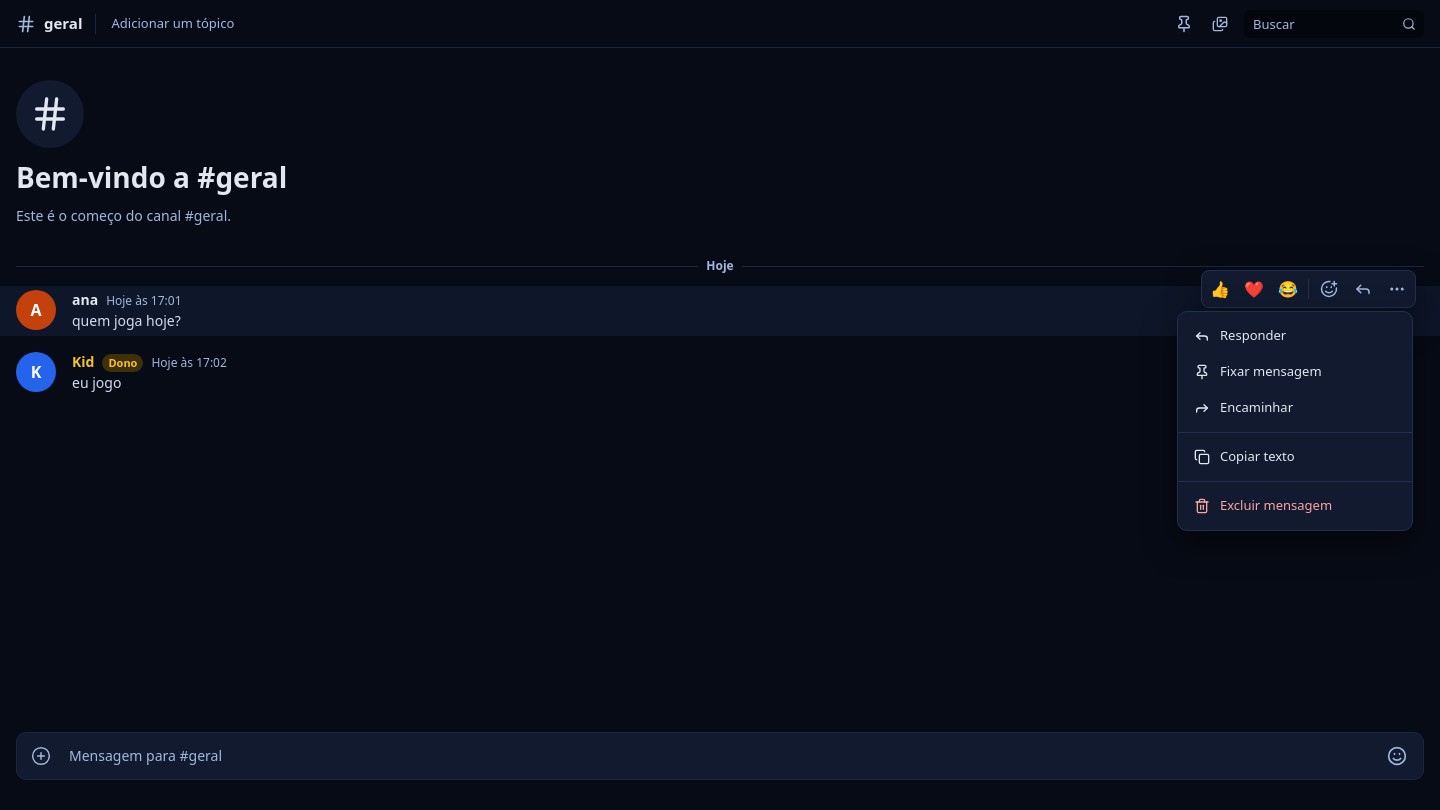
it: as ações da mensagem › excluir pede confirmação, e o dono exclui a dos outros num canal
Earlier steps of the test are not shown.
Click the menu item "Excluir mensagem": [1263, 505] box [1194,496,1332,514]
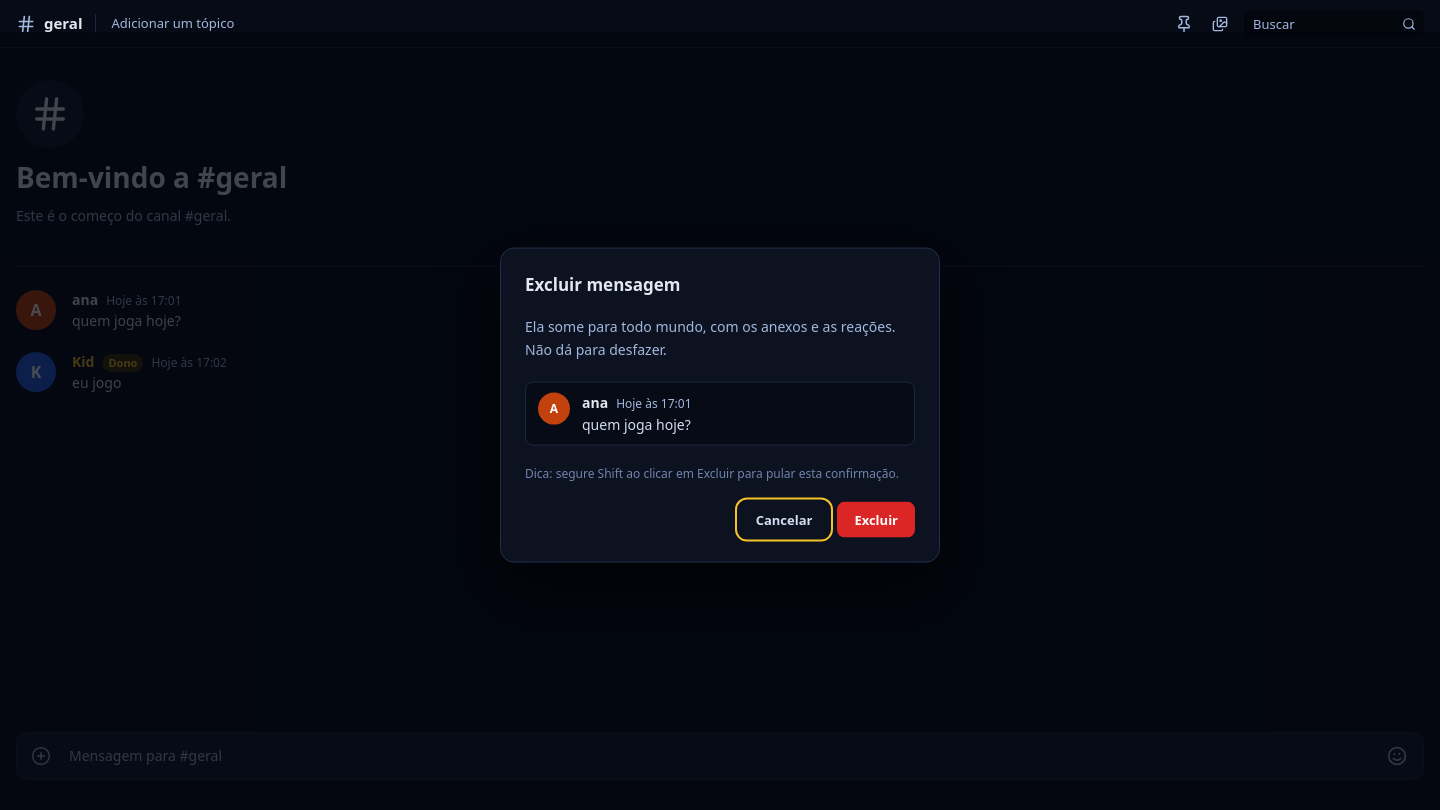
Expected: the heading "Excluir mensagem" is shown, [525,273,681,296]
Click the button "Excluir": [876, 519] box [837,501,915,537]
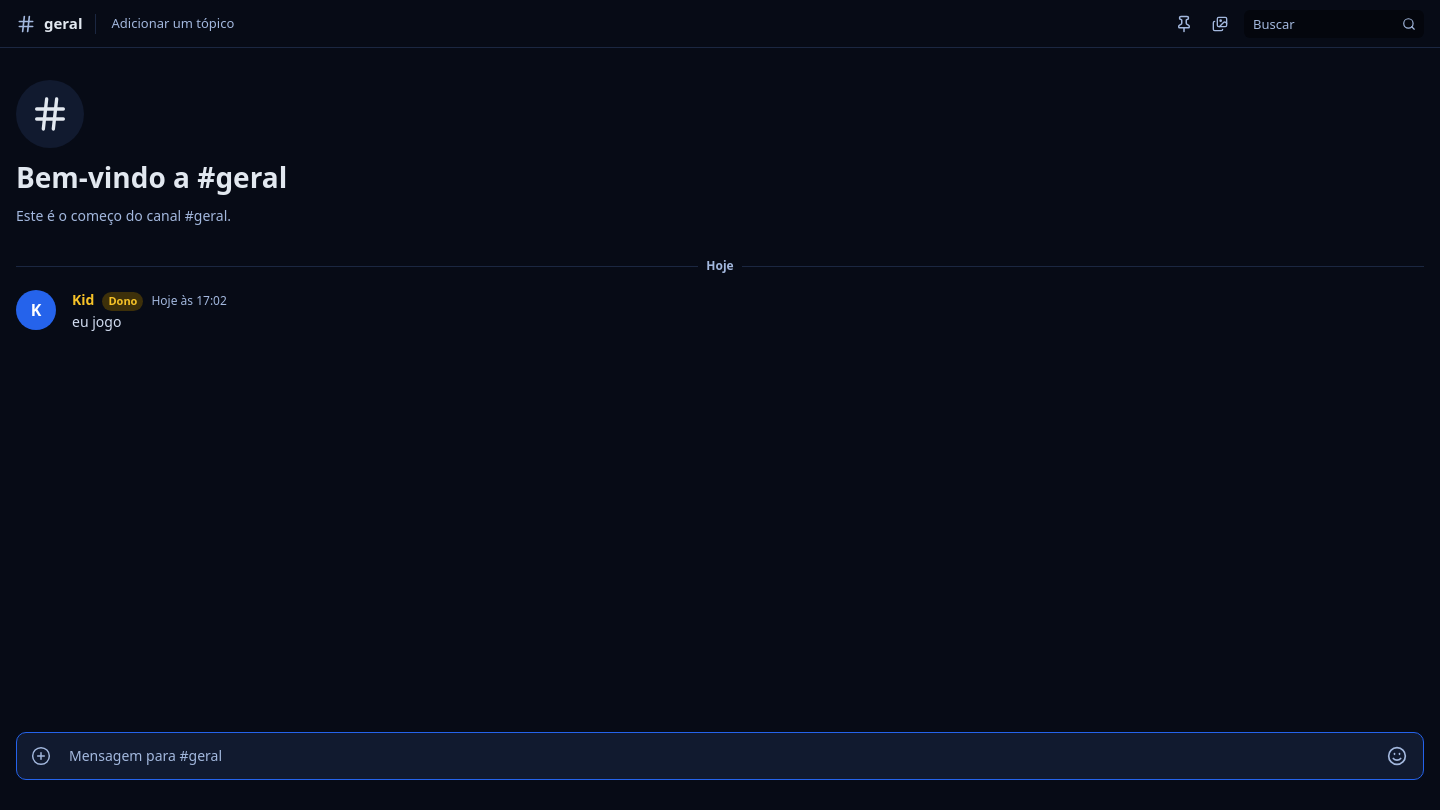
Expected: the text "quem joga hoje?" is gone
